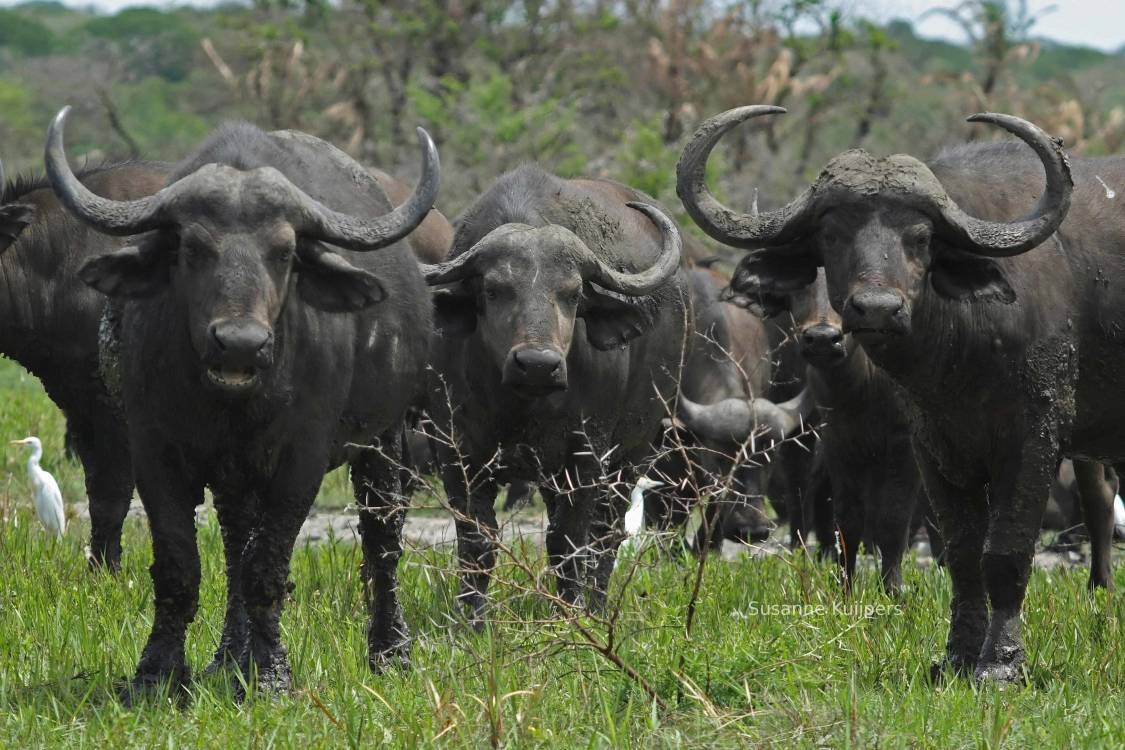buffalo: (679, 105, 1125, 687), (39, 105, 443, 700), (415, 162, 687, 649)
